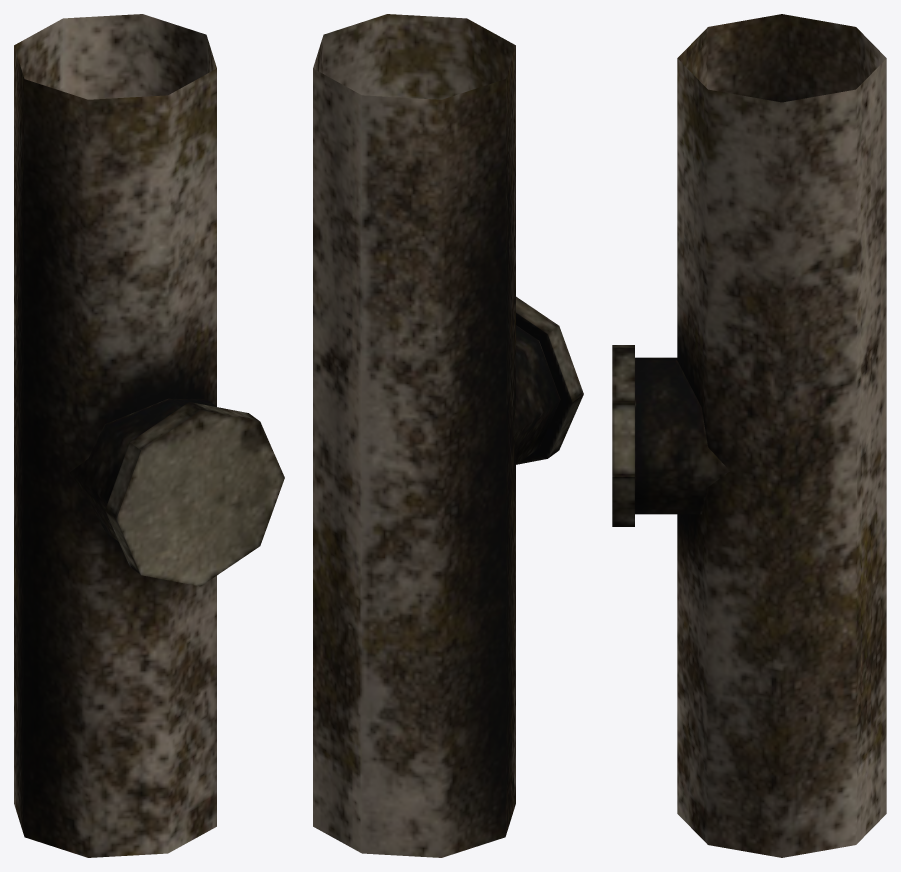
The model's file is ExtPipe_01.FBX.
3 views of the same model, side by side, from view 1: azimuth 30°, elevation 25°; view 2: azimuth 150°, elevation 25°; view 3: azimuth 270°, elevation 25° (orthographic).
Parts seen in each view (by area): view 1: ExtPipe_01; view 2: ExtPipe_01; view 3: ExtPipe_01.
Part boxes in pixels (x1,y1,x2,y2): ExtPipe_01: (14, 14, 284, 857); ExtPipe_01: (313, 14, 583, 857); ExtPipe_01: (612, 14, 886, 857).
Bounding box in the file's own units: 12 × 47.76 × 15.73.
Materials: 1 (1 with a texture image).
